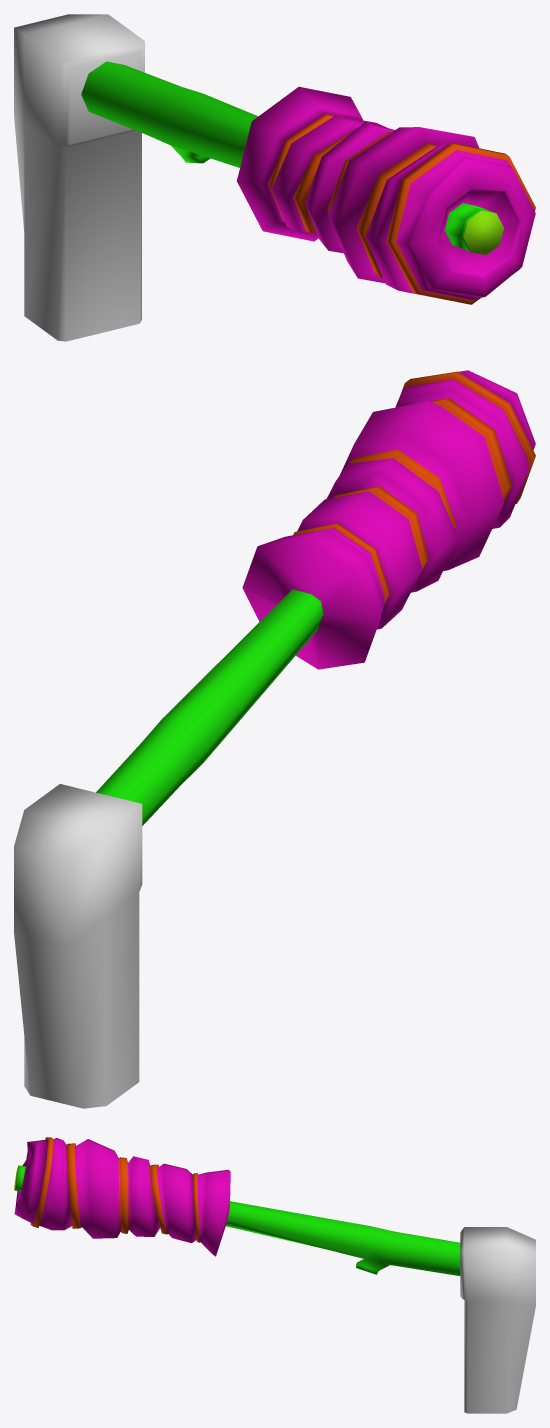
File: Torch_Wallmounted.gltf
3 views of the same model, one above another, from view 1: azimuth 30°, elevation 25°; view 2: azimuth 150°, elevation 25°; view 3: azimuth 270°, elevation 25° (orthographic). The views are drawn at different scales.
Visible parts, largest first — view 1: Torch_Wallmounted; view 2: Torch_Wallmounted; view 3: Torch_Wallmounted.
Boxes of the visible parts, box(x1,y1,x2,y2) form: Torch_Wallmounted: box(14, 14, 535, 341); Torch_Wallmounted: box(14, 370, 535, 1108); Torch_Wallmounted: box(14, 1137, 535, 1413).
Size of the model in its own units: 11.01 by 29.8 by 53.92.
